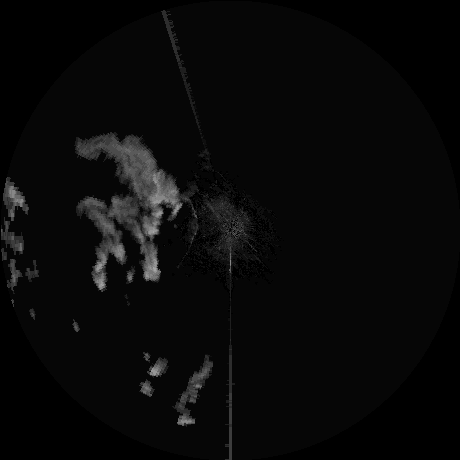frontgust: (183, 197, 199, 246)
